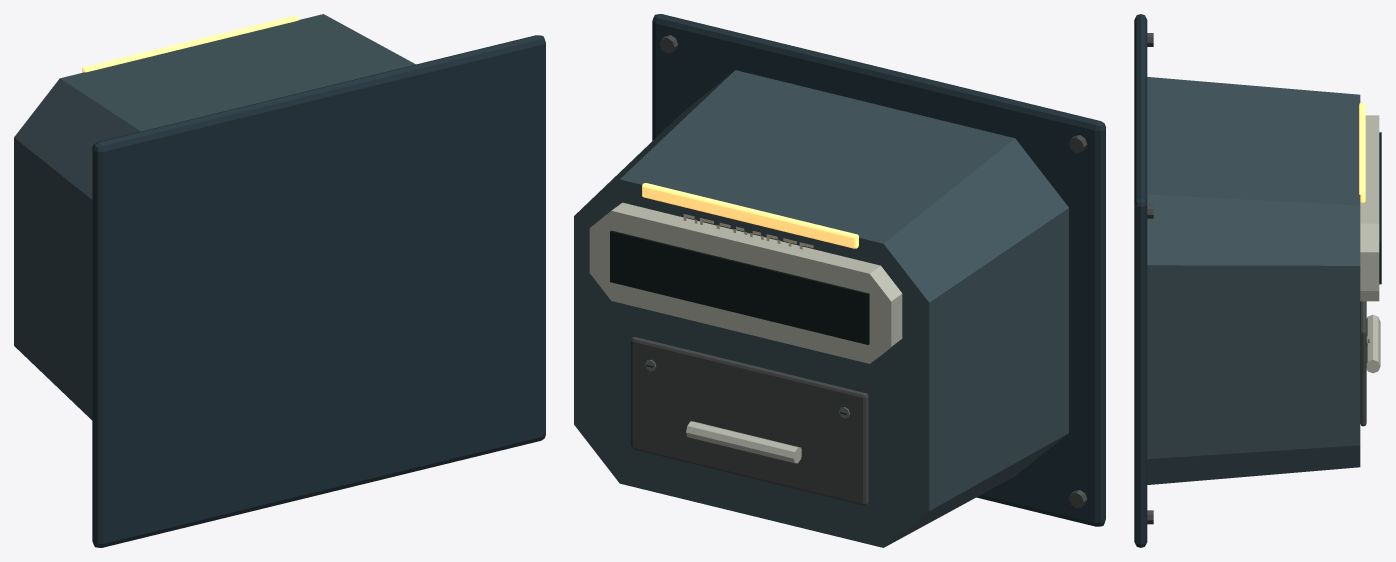
File: disposal_bin.glb
3 views of the same model, side by side, from view 1: azimuth 30°, elevation 25°; view 2: azimuth 150°, elevation 25°; view 3: azimuth 270°, elevation 25° (orthographic). The views are drawn at different scales.
Parts seen in each view (by area): view 1: disposal_bin; view 2: disposal_bin; view 3: disposal_bin.
Part boxes in pixels (box(x1,y1,x2,y2)): disposal_bin: box(14, 14, 545, 547); disposal_bin: box(574, 14, 1105, 547); disposal_bin: box(1134, 14, 1381, 547).
Bounding box in the file's own units: 0.42 × 0.36 × 0.231.
